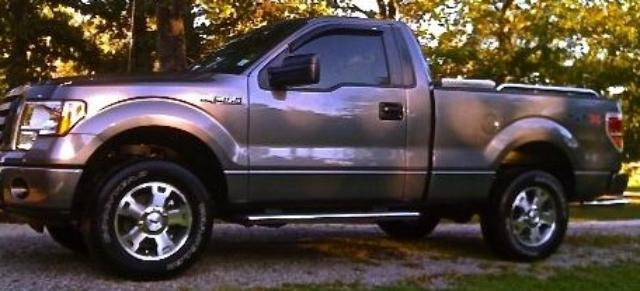pickup-truck: (1, 15, 629, 280)
